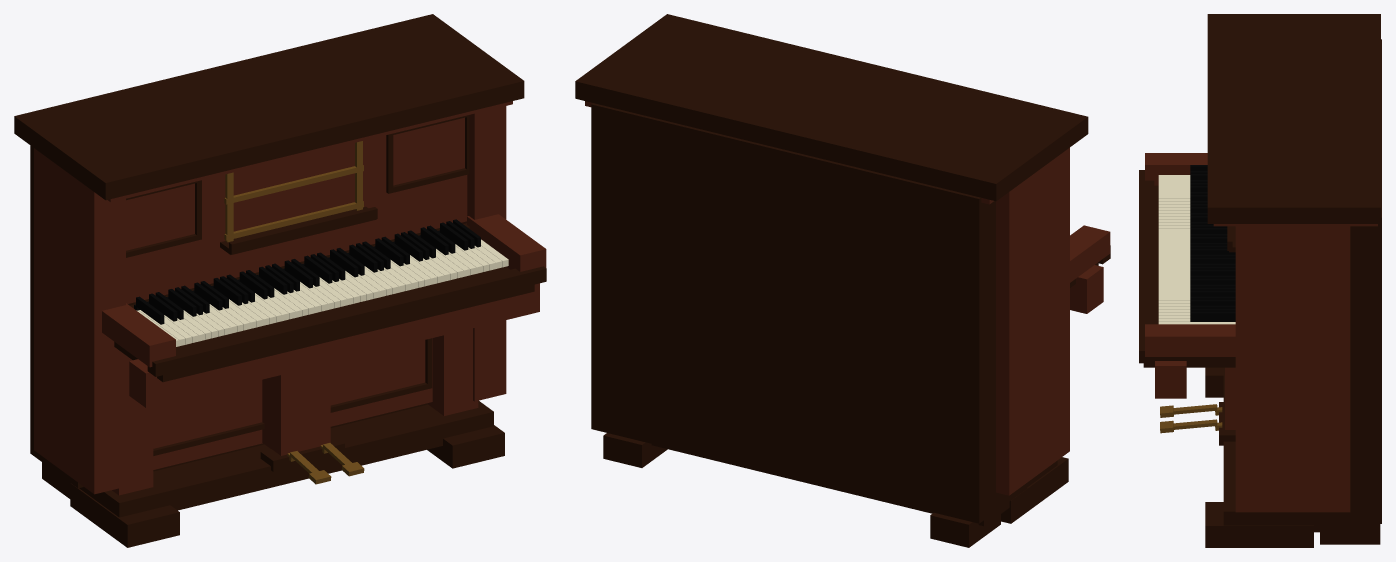
3 views of the same model, side by side, from view 1: azimuth 30°, elevation 25°; view 2: azimuth 150°, elevation 25°; view 3: azimuth 270°, elevation 25° (orthographic). The views are drawn at different scales.
Visible parts, largest first — view 1: /Asset/Links/piano_body/Visuals/top_cap/Geom, /Asset/Links/piano_body/Visuals/upper_front_board/Geom, /Asset/Links/piano_body/Visuals/left_side_post/Geom, /Asset/Links/piano_body/Visuals/base_plinth/Geom, /Asset/Links/piano_body/Visuals/lower_front_panel/Geom, /Asset/Links/piano_body/Visuals/keyboard_apron/Geom, /Asset/Links/piano_body/Visuals/front_key_rail/Geom, /Asset/Links/piano_body/Visuals/right_side_post/Geom, /Asset/Links/piano_body/Visuals/pedal_support/Geom, /Asset/Links/piano_body/Visuals/keybed/Geom, /Asset/Links/piano_body/Visuals/right_lower_leg/Geom, /Asset/Links/piano_body/Visuals/left_front_foot/Geom (+12 smaller); view 2: /Asset/Links/piano_body/Visuals/rear_carcass/Geom, /Asset/Links/piano_body/Visuals/top_cap/Geom, /Asset/Links/piano_body/Visuals/left_side_post/Geom, /Asset/Links/piano_body/Visuals/left_front_foot/Geom, /Asset/Links/piano_body/Visuals/left_key_cheek/Geom, /Asset/Links/piano_body/Visuals/left_rear_foot/Geom, /Asset/Links/piano_body/Visuals/right_rear_foot/Geom, /Asset/Links/piano_body/Visuals/keyboard_apron/Geom, /Asset/Links/piano_body/Visuals/base_plinth/Geom; view 3: /Asset/Links/piano_body/Visuals/top_cap/Geom, /Asset/Links/piano_body/Visuals/right_side_post/Geom, /Asset/Links/piano_body/Visuals/rear_carcass/Geom, /Asset/Links/piano_body/Visuals/right_key_cheek/Geom, /Asset/Links/piano_body/Visuals/right_front_foot/Geom, /Asset/Links/piano_body/Visuals/front_key_rail/Geom, /Asset/Links/piano_body/Visuals/base_plinth/Geom, /Asset/Links/piano_body/Visuals/keybed/Geom, /Asset/Links/piano_body/Visuals/left_key_cheek/Geom, /Asset/Links/piano_body/Visuals/keyboard_apron/Geom, /Asset/Links/piano_body/Visuals/right_rear_foot/Geom, /Asset/Links/piano_body/Visuals/pedal_support/Geom (+10 smaller).
Boxes of the visible parts, x1=… form: /Asset/Links/piano_body/Visuals/top_cap/Geom: x1=14, y1=14, x2=524, y2=200; /Asset/Links/piano_body/Visuals/upper_front_board/Geom: x1=126, y1=117, x2=467, y2=303; /Asset/Links/piano_body/Visuals/left_side_post/Geom: x1=34, y1=148, x2=125, y2=494; /Asset/Links/piano_body/Visuals/base_plinth/Geom: x1=46, y1=400, x2=493, y2=517; /Asset/Links/piano_body/Visuals/lower_front_panel/Geom: x1=153, y1=338, x2=432, y2=469; /Asset/Links/piano_body/Visuals/keyboard_apron/Geom: x1=129, y1=283, x2=539, y2=407; /Asset/Links/piano_body/Visuals/front_key_rail/Geom: x1=147, y1=266, x2=546, y2=376; /Asset/Links/piano_body/Visuals/right_side_post/Geom: x1=461, y1=106, x2=506, y2=401; /Asset/Links/piano_body/Visuals/pedal_support/Geom: x1=262, y1=363, x2=330, y2=455; /Asset/Links/piano_body/Visuals/keybed/Geom: x1=114, y1=266, x2=534, y2=382; /Asset/Links/piano_body/Visuals/right_lower_leg/Geom: x1=428, y1=328, x2=478, y2=415; /Asset/Links/piano_body/Visuals/left_front_foot/Geom: x1=70, y1=483, x2=179, y2=547; /Asset/Links/piano_body/Visuals/rear_carcass/Geom: x1=591, y1=103, x2=1027, y2=523; /Asset/Links/piano_body/Visuals/top_cap/Geom: x1=575, y1=14, x2=1088, y2=201; /Asset/Links/piano_body/Visuals/left_side_post/Geom: x1=996, y1=147, x2=1069, y2=495; /Asset/Links/piano_body/Visuals/left_front_foot/Geom: x1=1001, y1=457, x2=1068, y2=523; /Asset/Links/piano_body/Visuals/left_key_cheek/Geom: x1=1070, y1=225, x2=1110, y2=282; /Asset/Links/piano_body/Visuals/left_rear_foot/Geom: x1=930, y1=513, x2=1000, y2=547; /Asset/Links/piano_body/Visuals/right_rear_foot/Geom: x1=603, y1=433, x2=667, y2=467; /Asset/Links/piano_body/Visuals/keyboard_apron/Geom: x1=1070, y1=265, x2=1103, y2=313; /Asset/Links/piano_body/Visuals/base_plinth/Geom: x1=651, y1=444, x2=1057, y2=526; /Asset/Links/piano_body/Visuals/top_cap/Geom: x1=1207, y1=14, x2=1380, y2=223; /Asset/Links/piano_body/Visuals/right_side_post/Geom: x1=1235, y1=224, x2=1350, y2=512; /Asset/Links/piano_body/Visuals/rear_carcass/Geom: x1=1291, y1=39, x2=1381, y2=523; /Asset/Links/piano_body/Visuals/right_key_cheek/Geom: x1=1145, y1=324, x2=1235, y2=356; /Asset/Links/piano_body/Visuals/right_front_foot/Geom: x1=1205, y1=502, x2=1313, y2=547; /Asset/Links/piano_body/Visuals/front_key_rail/Geom: x1=1139, y1=170, x2=1154, y2=363; /Asset/Links/piano_body/Visuals/base_plinth/Geom: x1=1223, y1=367, x2=1362, y2=532; /Asset/Links/piano_body/Visuals/keybed/Geom: x1=1143, y1=185, x2=1235, y2=367; /Asset/Links/piano_body/Visuals/left_key_cheek/Geom: x1=1145, y1=153, x2=1207, y2=185; /Asset/Links/piano_body/Visuals/keyboard_apron/Geom: x1=1155, y1=361, x2=1186, y2=398; /Asset/Links/piano_body/Visuals/right_rear_foot/Geom: x1=1320, y1=524, x2=1380, y2=544; /Asset/Links/piano_body/Visuals/pedal_support/Geom: x1=1225, y1=367, x2=1235, y2=429.
Bounding box in the file's own units: 1.52 × 1.28 × 0.8049.
